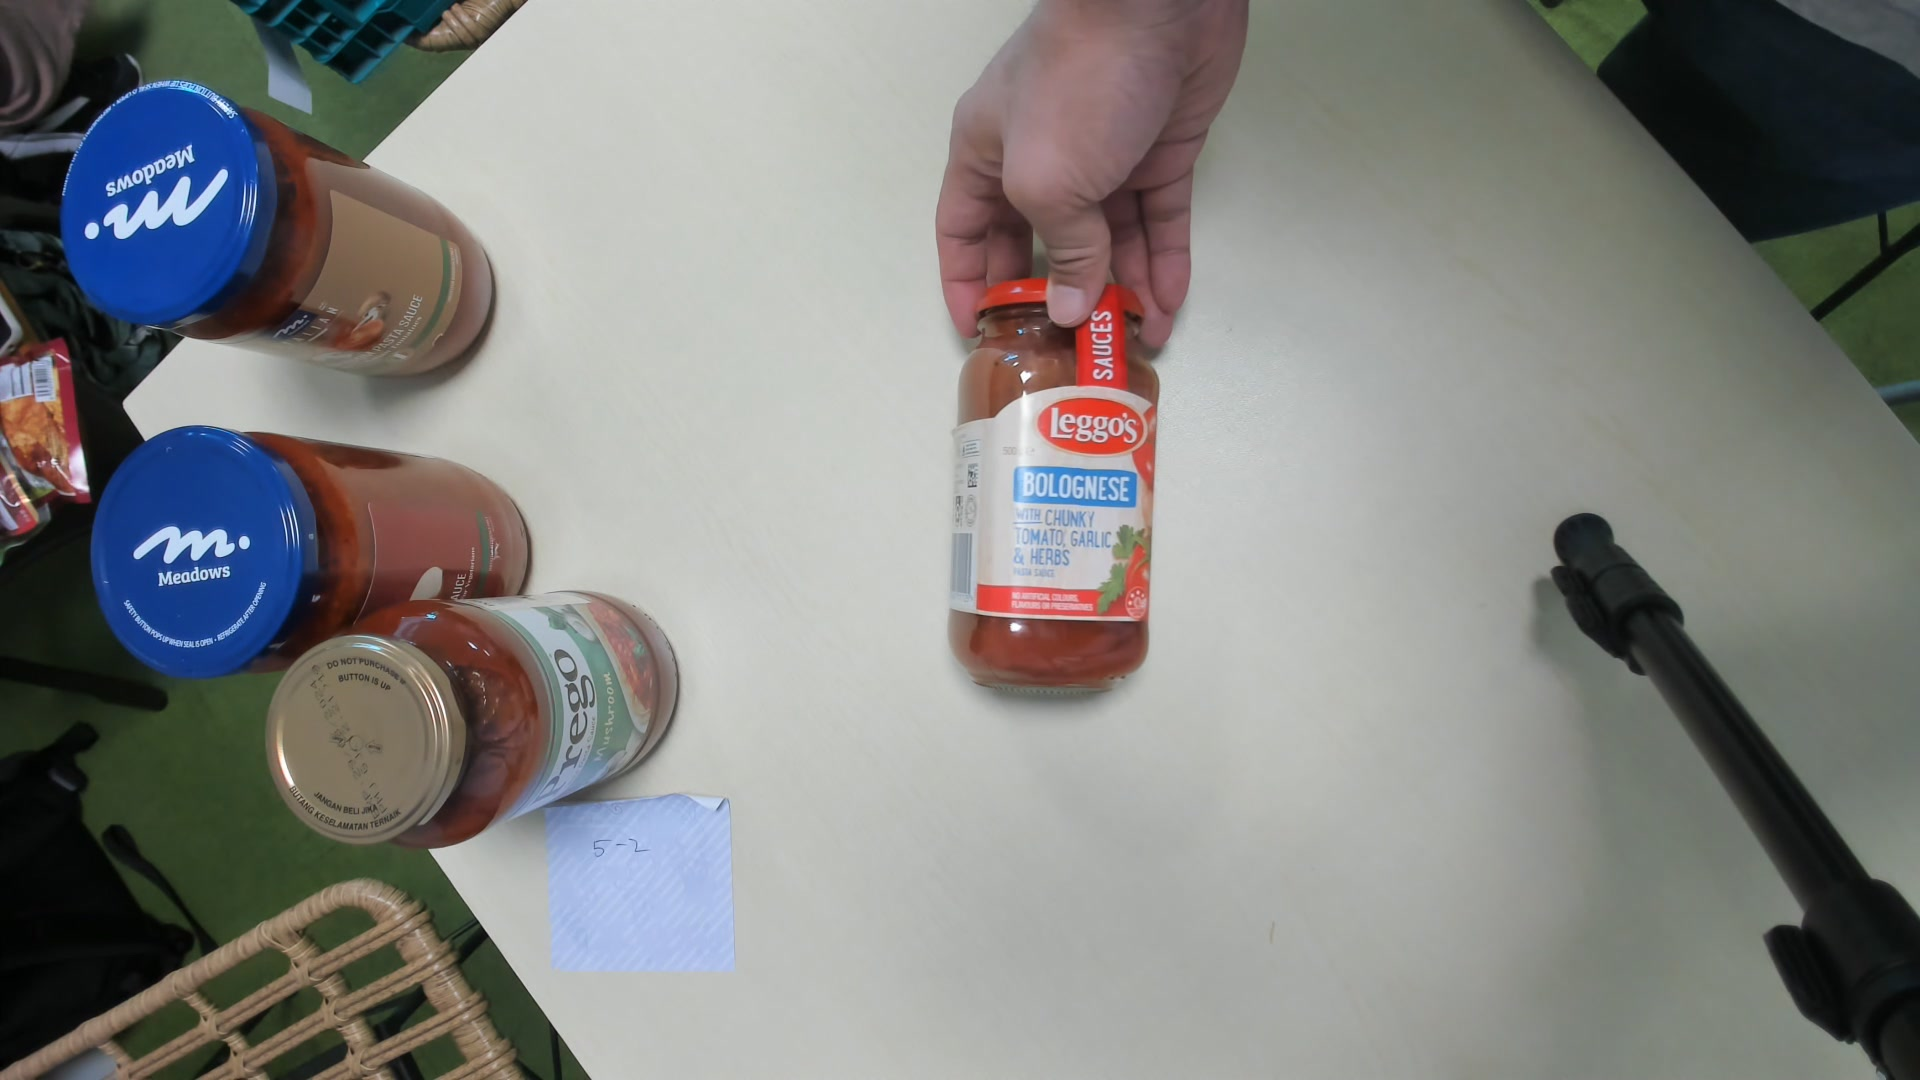PastaSauce_500-599g_Halal_NonHealthy: (944, 274, 1153, 695)
